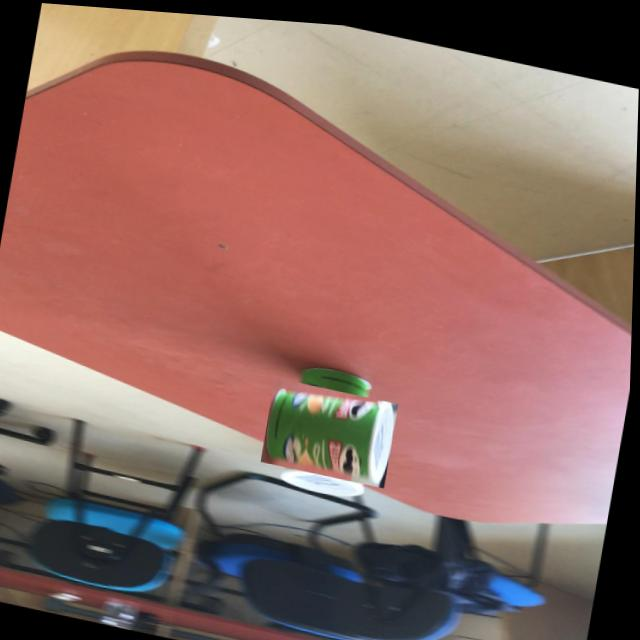a pringles: (270, 364, 393, 491)
